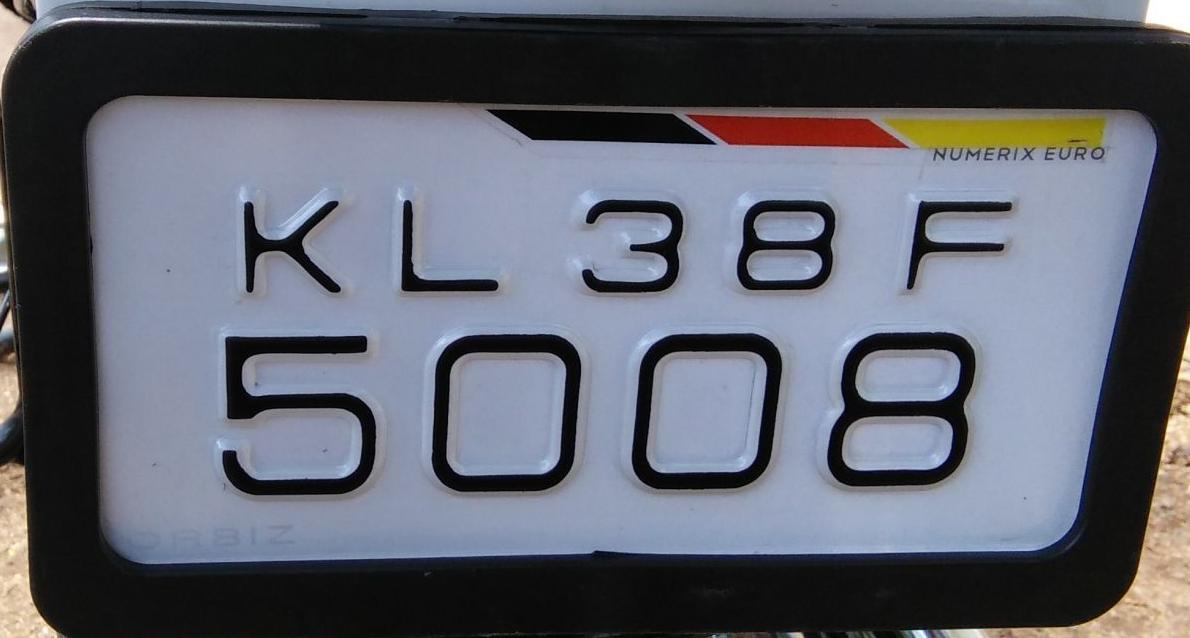0: (428, 330, 581, 495), (627, 331, 780, 491)
3: (577, 193, 687, 299)
5: (214, 331, 379, 496)
8: (819, 329, 976, 489), (734, 193, 840, 296)
F: (901, 193, 1012, 301)
K: (234, 192, 348, 299)
L: (397, 197, 501, 296)
